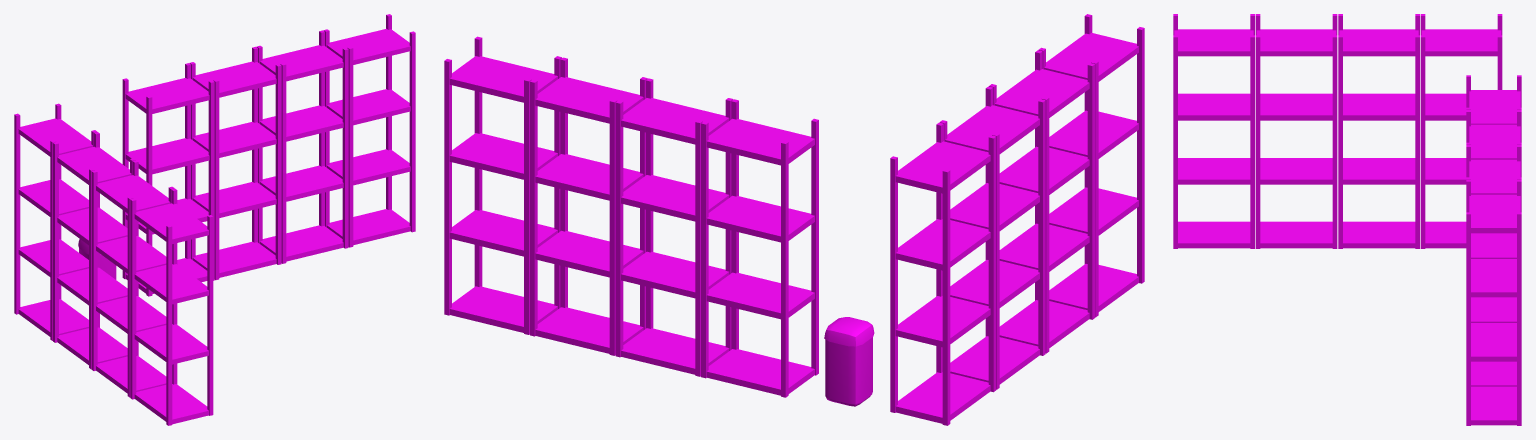
The picture shows the model from 3 angles, left to right: view 1: azimuth 30°, elevation 25°; view 2: azimuth 150°, elevation 25°; view 3: azimuth 270°, elevation 25°; orthographic projection. The views are drawn at different scales.
Visible parts, largest first — view 1: Uv_03; view 2: Uv_03; view 3: Uv_03.
Part boxes in pixels (x1,y1,x2,y2): Uv_03: [14, 14, 415, 425]; Uv_03: [444, 14, 1144, 425]; Uv_03: [1173, 14, 1521, 425].
Size of the model in its own units: 507 by 250 by 373.
